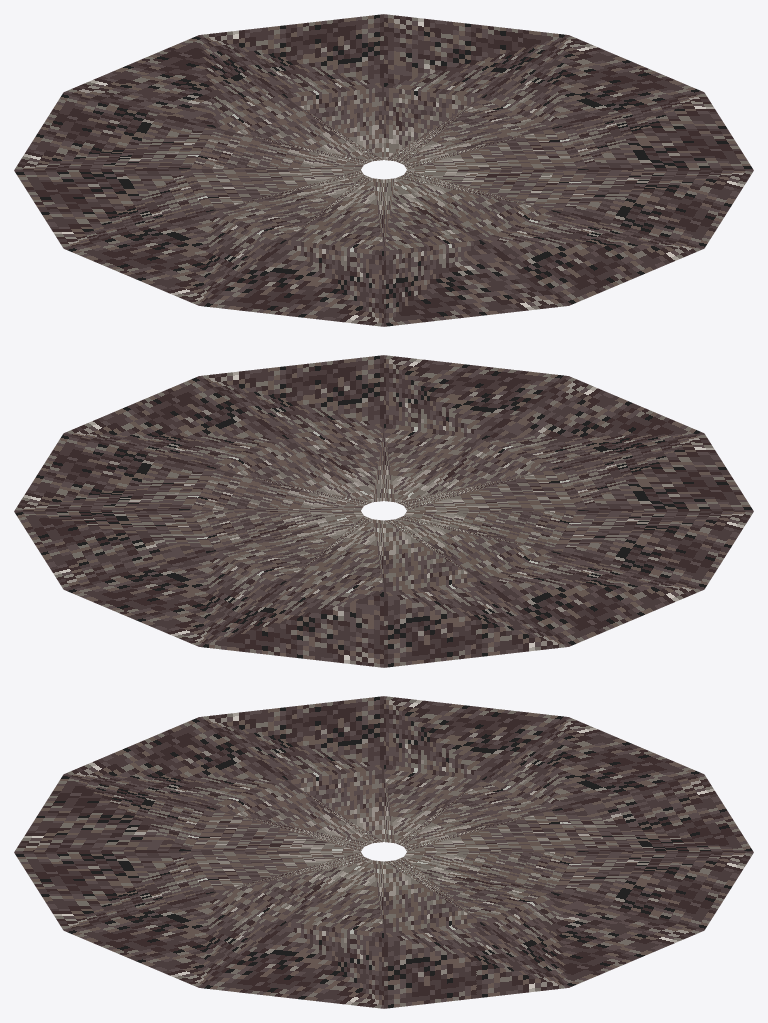
The picture shows the model from 3 angles, top to bottom: view 1: azimuth 30°, elevation 25°; view 2: azimuth 150°, elevation 25°; view 3: azimuth 270°, elevation 25°; orthographic projection.
Parts seen in each view (by area): view 1: mesh00; view 2: mesh00; view 3: mesh00.
Part boxes in pixels (box(x1,y1,x2,y2)): mesh00: box(14, 14, 753, 326); mesh00: box(14, 355, 753, 667); mesh00: box(14, 696, 753, 1008).
Size of the model in its own units: 980 by 2 by 980.
